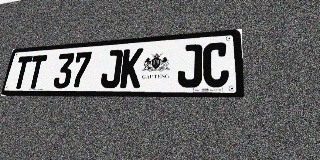3: (52, 53, 75, 88)
7: (69, 52, 92, 88)
C: (203, 42, 229, 87)
J: (177, 44, 202, 88), (100, 49, 123, 88)
K: (119, 48, 144, 88)
T: (11, 56, 33, 89), (26, 55, 47, 89)
